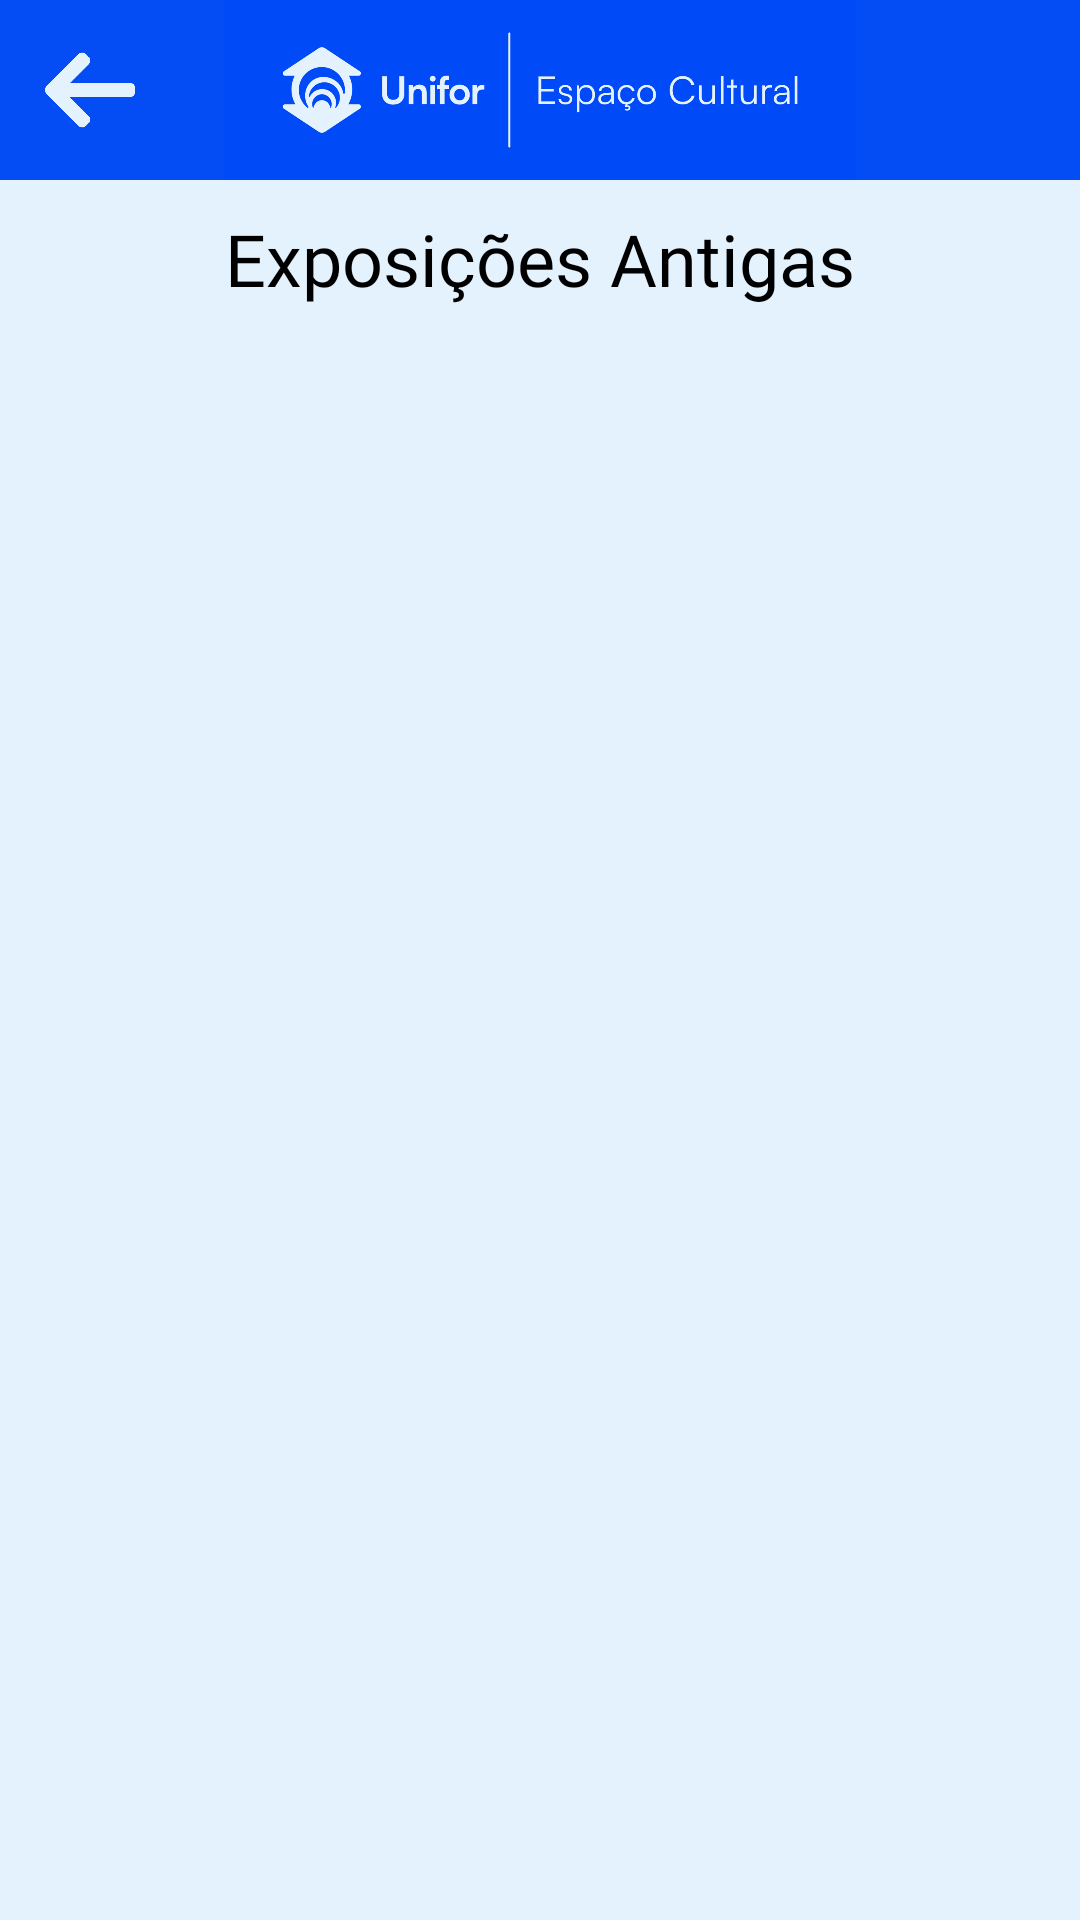

Icons on this 1080*1920 Android screen, each with its box as (x1, y1, x2, y2):
return arrow: (45, 52, 135, 128)
